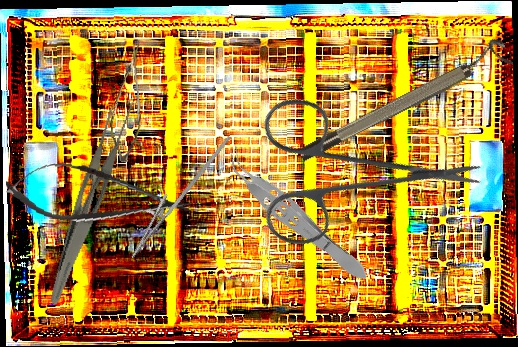Dressing Forceps: (47, 92, 138, 313)
Fixation Ring: (292, 35, 514, 166)
Iris Scissors: (208, 31, 489, 313)
Micro Scissor: (2, 155, 195, 236), (103, 43, 150, 163)
Needle Holder: (120, 119, 232, 269)
Tissue Forceps: (214, 142, 377, 290)
